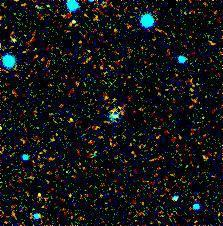star: (59, 4, 89, 34)
